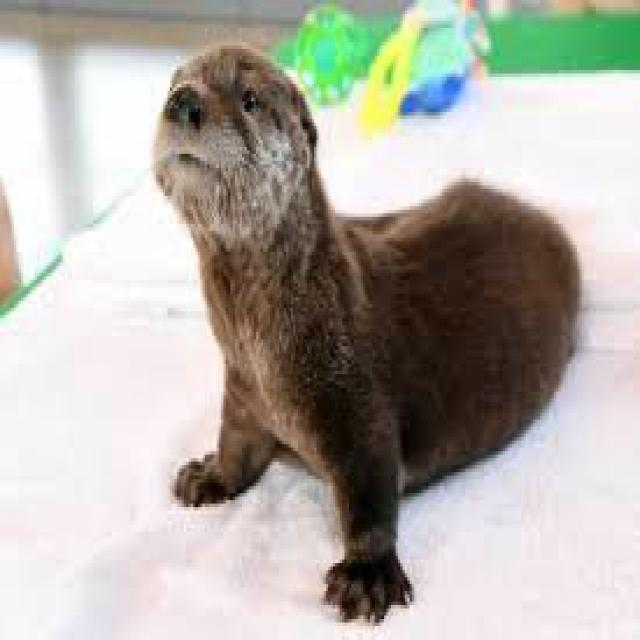otter: (154, 45, 577, 619)
